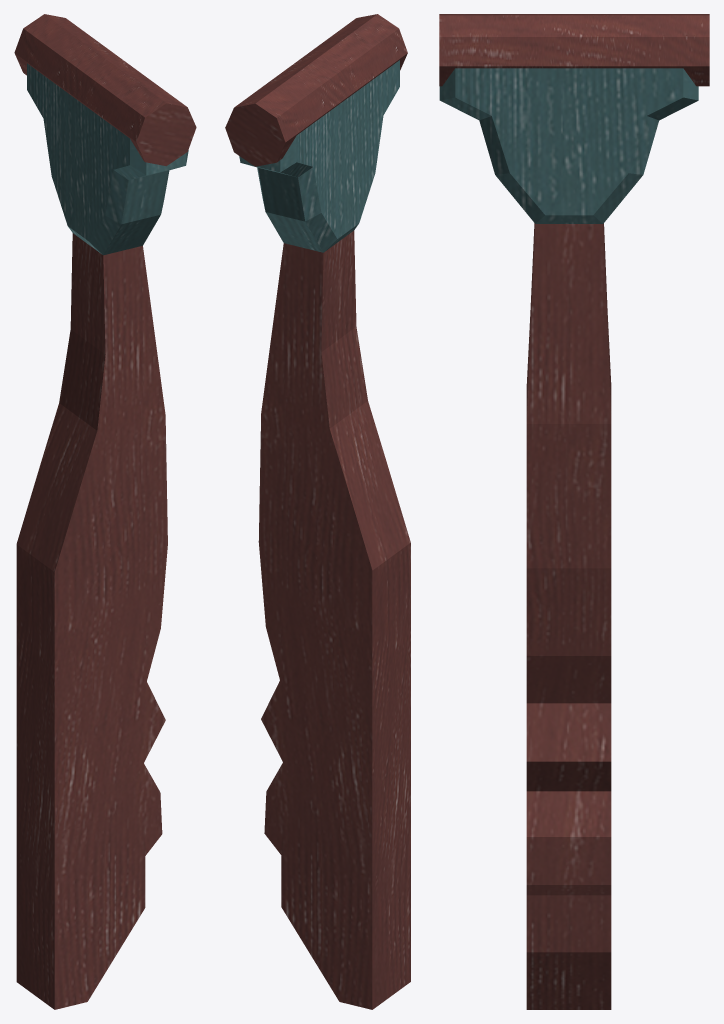
File: SM_Song_Jong_Rail_D.fbx
3 renders of one model, left to right at view 1: azimuth 30°, elevation 25°; view 2: azimuth 150°, elevation 25°; view 3: azimuth 270°, elevation 25°, orthographic. The views are drawn at different scales.
Visible parts, largest first — view 1: SM_Song_Jong_Rail_D; view 2: SM_Song_Jong_Rail_D; view 3: SM_Song_Jong_Rail_D.
Boxes of the visible parts, x1,y1,x2,y2 form: SM_Song_Jong_Rail_D: (14,14,196,1009); SM_Song_Jong_Rail_D: (225,14,410,1009); SM_Song_Jong_Rail_D: (439,14,709,1009).
Bounding box in the file's own units: 9.41 × 72.87 × 17.55.
